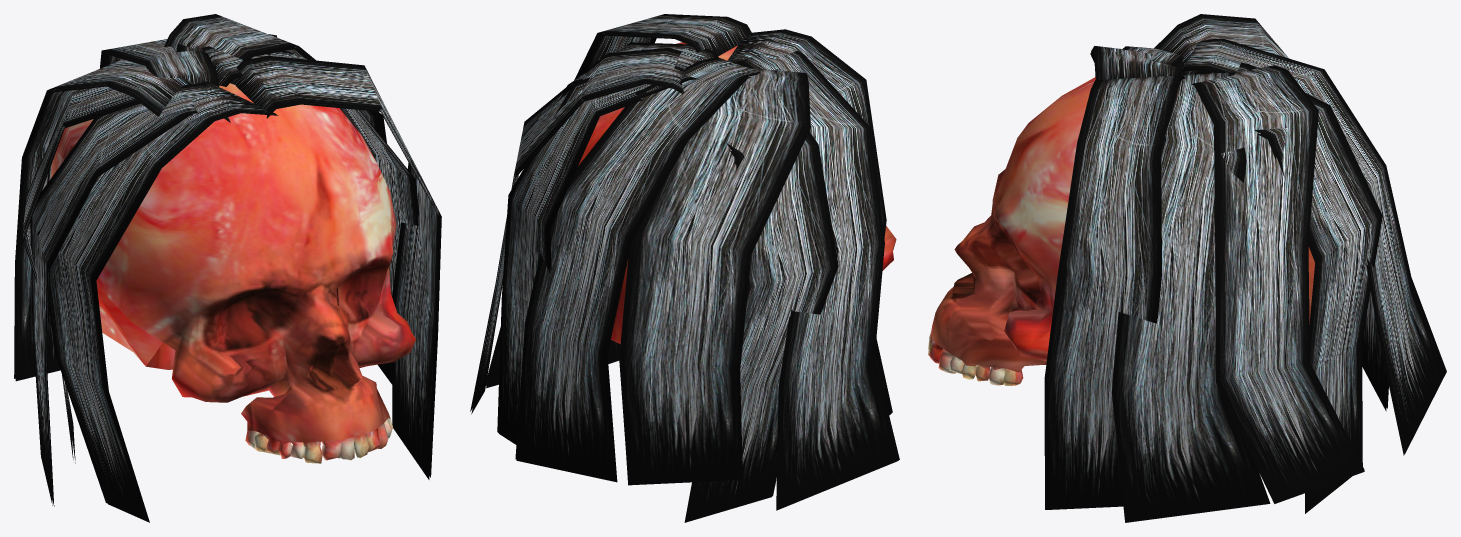
File: female_head_noneck-05.fbx
The picture shows the model from 3 angles, left to right: view 1: azimuth 30°, elevation 25°; view 2: azimuth 150°, elevation 25°; view 3: azimuth 270°, elevation 25°; orthographic projection. The views are drawn at different scales.
Parts seen in each view (by area): view 1: fm_head8; view 2: fm_head8; view 3: fm_head8.
Part boxes in pixels (left/top/right/bottom): fm_head8: left=14, top=14, right=441, bottom=522; fm_head8: left=470, top=14, right=899, bottom=522; fm_head8: left=928, top=14, right=1446, bottom=522.
Size of the model in its own units: 0.2395 by 0.2509 by 0.2974.
